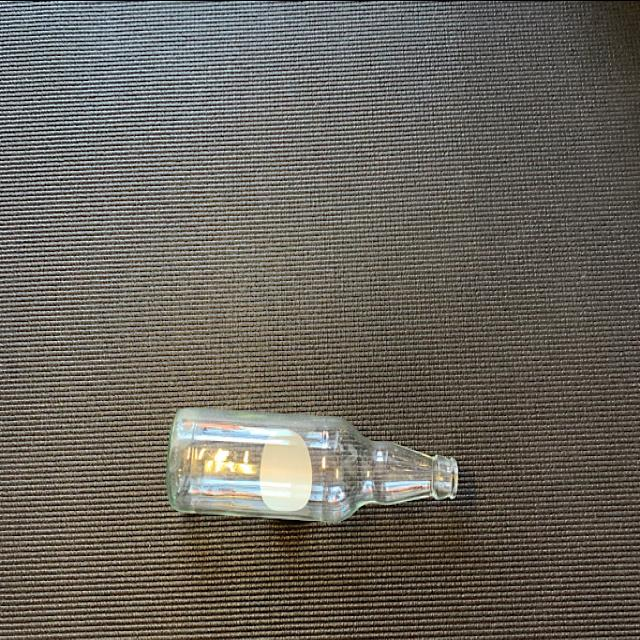Glass Bottle: (170, 403, 462, 528)
